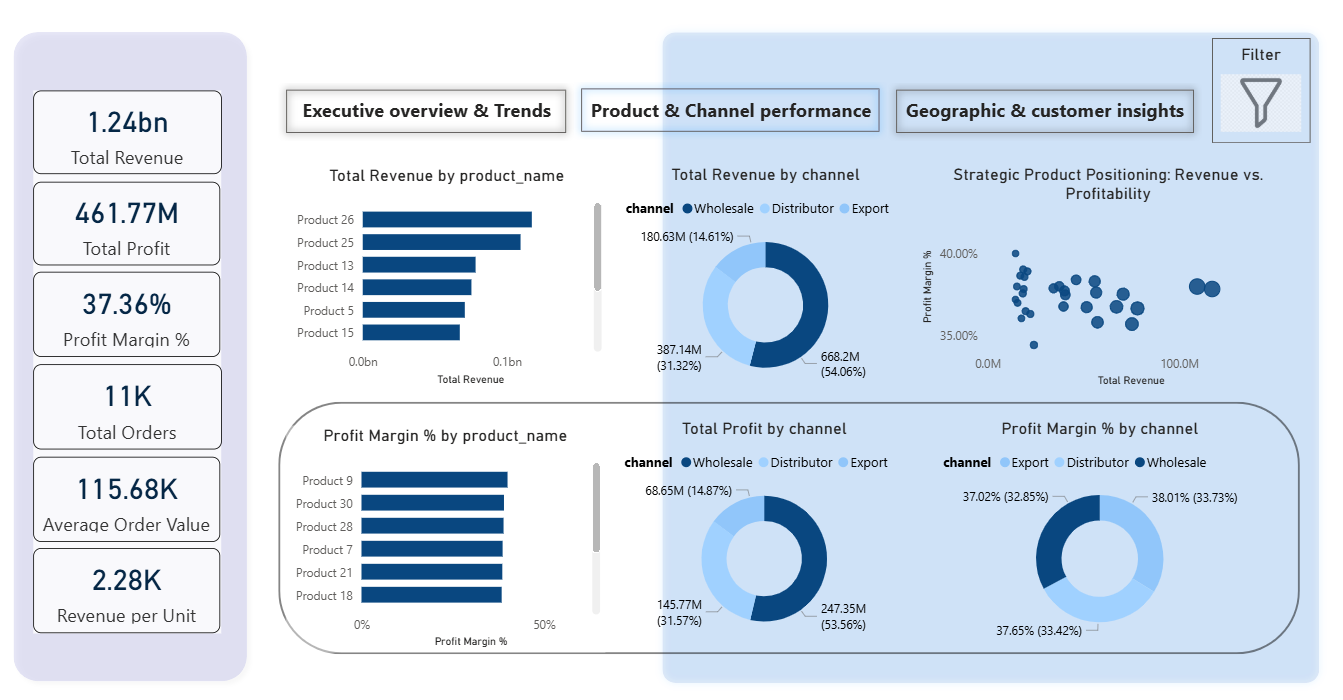

This screenshot's page, from the dashboard's own definition file:
{"tool":"powerbi","page":{"name":"Product & Channel performance","canvas":[1370,720],"ordinal":1},"visuals":[{"type":"shape","box":[672,26,682,676],"z":0},{"type":"card","fields":{"Values":["Query1.Total Orders"]},"box":[42.2,371.6,190.8,86.4],"z":0,"group":"g1"},{"type":"card","fields":{"Values":["Query1.Profit Margin %"]},"box":[42.2,278.2,189.5,86.4],"z":1000,"group":"g1"},{"type":"shape","box":[290,410,1036,256],"z":1000},{"type":"card","fields":{"Values":["Query1.Total Profit"]},"box":[42.2,186.2,189.5,85.1],"z":2000,"group":"g1"},{"type":"donutChart","fields":{"Category":["Sales_data(EDA Exported).channel"],"Y":["Query1.Total Profit"]},"box":[636,426,294,232],"z":2000},{"type":"card","fields":{"Values":["Query1.Total Revenue"]},"box":[42.2,94.1,190.8,85.1],"z":3000,"group":"g1"},{"type":"barChart","fields":{"Y":["Query1.Total Revenue"],"Category":["Sales_data(EDA Exported).product_name"]},"box":[298.6,170,324.3,227.1],"z":3000},{"type":"image","title":"Filter","box":[1245.4,47.4,81.7,95],"z":4000},{"type":"card","fields":{"Values":["Query1.Average Order Value"]},"box":[42.2,464.9,189.5,86.4],"z":4000,"group":"g1"},{"type":"donutChart","fields":{"Category":["Sales_data(EDA Exported).channel"],"Y":["Query1.Total Revenue"]},"box":[638,168,294,232],"z":5000},{"type":"card","fields":{"Values":["Query1.Revenue per Unit"]},"box":[42.2,558.2,189.5,86.4],"z":5000,"group":"g1"},{"type":"textbox","box":[302.4,96.7,276,44],"z":6000},{"type":"barChart","fields":{"Category":["Sales_data(EDA Exported).product_name"],"Y":["Query1.Profit Margin %"]},"box":[298,434,324,230],"z":7000},{"type":"textbox","box":[594.4,96.7,310,38],"z":8000},{"type":"scatterChart","title":"Strategic Product Positioning: Revenue vs. Profitability","fields":{"X":["Product_Summary.Total Revenue"],"Y":["Product_Summary.Profit Margin %"],"Size":["Sum(Product_Summary.Total Quantity)"]},"box":[938,168,388,230],"z":9000},{"type":"textbox","box":[908.4,96.7,318,44],"z":10000},{"type":"actionButton","box":[908.4,84.7,318,60],"z":11000},{"type":"shape","box":[12.1,25.8,254.8,676.5],"z":12000},{"type":"group","id":"g1","title":"Group 1","box":[42.2,94.1,190.8,550.5],"z":13000},{"type":"actionButton","box":[290.4,84.7,300,60],"z":14000},{"type":"actionButton","box":[590,84.3,318.6,60],"z":15000},{"type":"actionButton","box":[1236.7,40,100,106.7],"z":16000},{"type":"donutChart","fields":{"Category":["Sales_data(EDA Exported).channel"],"Y":["Query1.Profit Margin %"]},"box":[960,426,328,232],"z":19000}]}

Visuals, with their boxes in screenshot pixels (x1, y1, x2, y2), scaled from the page's 1370x720 canvas onto the 1343x700 screenshot:
shape: {"left": 659, "top": 25, "right": 1327, "bottom": 682}
card - Query1.Total Orders: {"left": 41, "top": 361, "right": 228, "bottom": 445}
card - Query1.Profit Margin %: {"left": 41, "top": 270, "right": 227, "bottom": 354}
shape: {"left": 284, "top": 399, "right": 1300, "bottom": 648}
card - Query1.Total Profit: {"left": 41, "top": 181, "right": 227, "bottom": 264}
donutChart - Sales_data(EDA Exported).channel x Query1.Total Profit: {"left": 623, "top": 414, "right": 912, "bottom": 640}
card - Query1.Total Revenue: {"left": 41, "top": 91, "right": 228, "bottom": 174}
barChart - Query1.Total Revenue x Sales_data(EDA Exported).product_name: {"left": 293, "top": 165, "right": 611, "bottom": 386}
"Filter" image: {"left": 1221, "top": 46, "right": 1301, "bottom": 138}
card - Query1.Average Order Value: {"left": 41, "top": 452, "right": 227, "bottom": 536}
donutChart - Sales_data(EDA Exported).channel x Query1.Total Revenue: {"left": 625, "top": 163, "right": 914, "bottom": 389}
card - Query1.Revenue per Unit: {"left": 41, "top": 543, "right": 227, "bottom": 627}
textbox: {"left": 296, "top": 94, "right": 567, "bottom": 137}
barChart - Sales_data(EDA Exported).product_name x Query1.Profit Margin %: {"left": 292, "top": 422, "right": 610, "bottom": 646}
textbox: {"left": 583, "top": 94, "right": 887, "bottom": 131}
"Strategic Product Positioning: Revenue vs. Profitability" scatterChart: {"left": 920, "top": 163, "right": 1300, "bottom": 387}
textbox: {"left": 890, "top": 94, "right": 1202, "bottom": 137}
actionButton: {"left": 890, "top": 82, "right": 1202, "bottom": 141}
shape: {"left": 12, "top": 25, "right": 262, "bottom": 683}
"Group 1" group: {"left": 41, "top": 91, "right": 228, "bottom": 627}
actionButton: {"left": 285, "top": 82, "right": 579, "bottom": 141}
actionButton: {"left": 578, "top": 82, "right": 891, "bottom": 140}
actionButton: {"left": 1212, "top": 39, "right": 1310, "bottom": 143}
donutChart - Sales_data(EDA Exported).channel x Query1.Profit Margin %: {"left": 941, "top": 414, "right": 1263, "bottom": 640}
